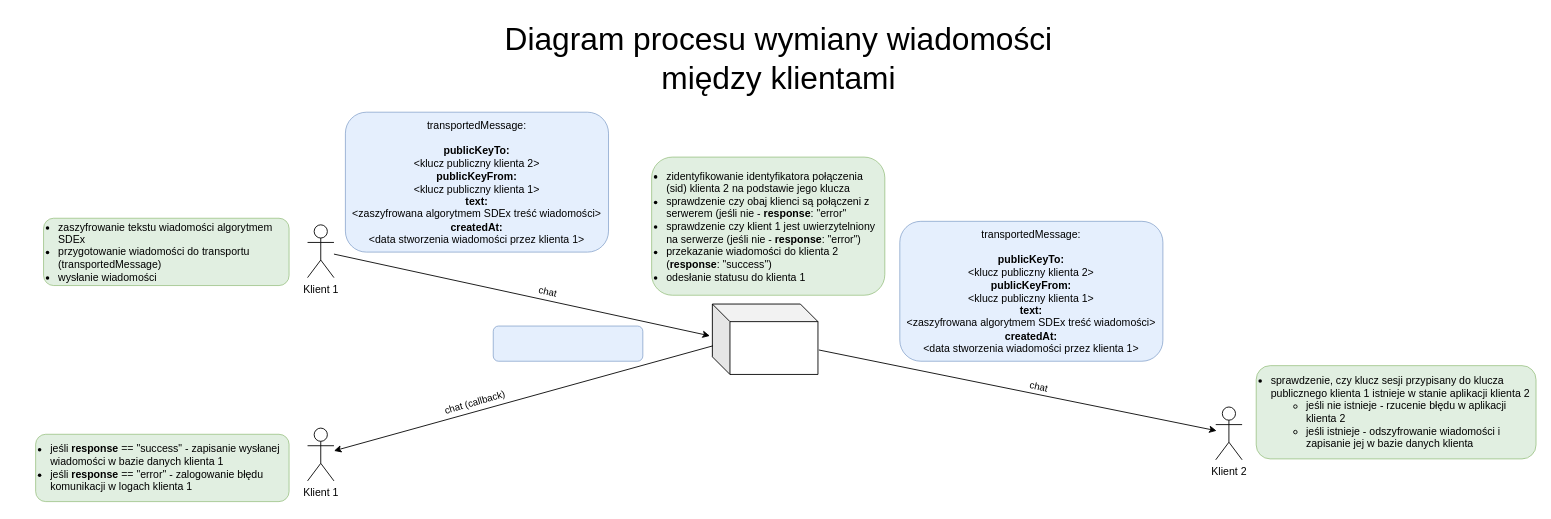
Some shapes in this 1551 by 519 pixel diagram are drawn without their labels. Here are the shapes that lost their labels. From the top down, the centre of each, then its label:
(x=567, y=343): response: "success" / "error"
(x=764, y=338): Serwer
